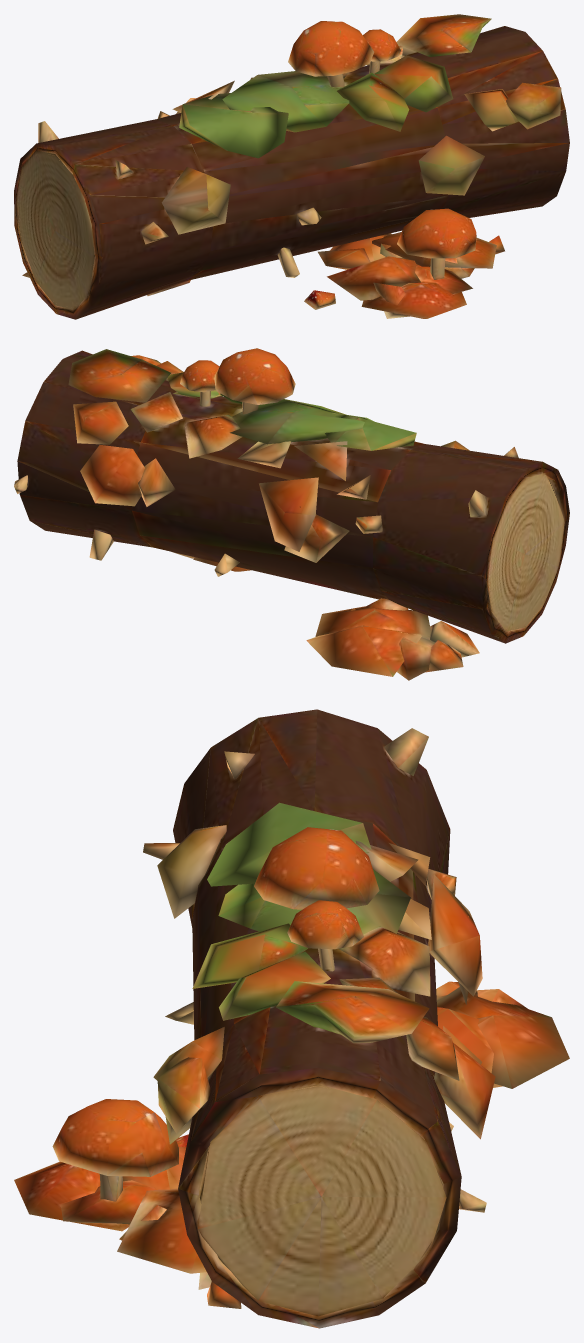
Rendered from mushroom-log.glb.
3 views of the same model, one above another, from view 1: azimuth 30°, elevation 25°; view 2: azimuth 150°, elevation 25°; view 3: azimuth 270°, elevation 25° (orthographic). The views are drawn at different scales.
Parts seen in each view (by area): view 1: mushroom-log; view 2: mushroom-log; view 3: mushroom-log.
Boxes of the visible parts, left/top/right/bottom form: mushroom-log: left=14, top=14, right=569, bottom=319; mushroom-log: left=14, top=348, right=569, bottom=680; mushroom-log: left=14, top=709, right=569, bottom=1328.
Bounding box in the file's own units: 1 × 0.4939 × 0.6547.
1 material, 1 textured.
